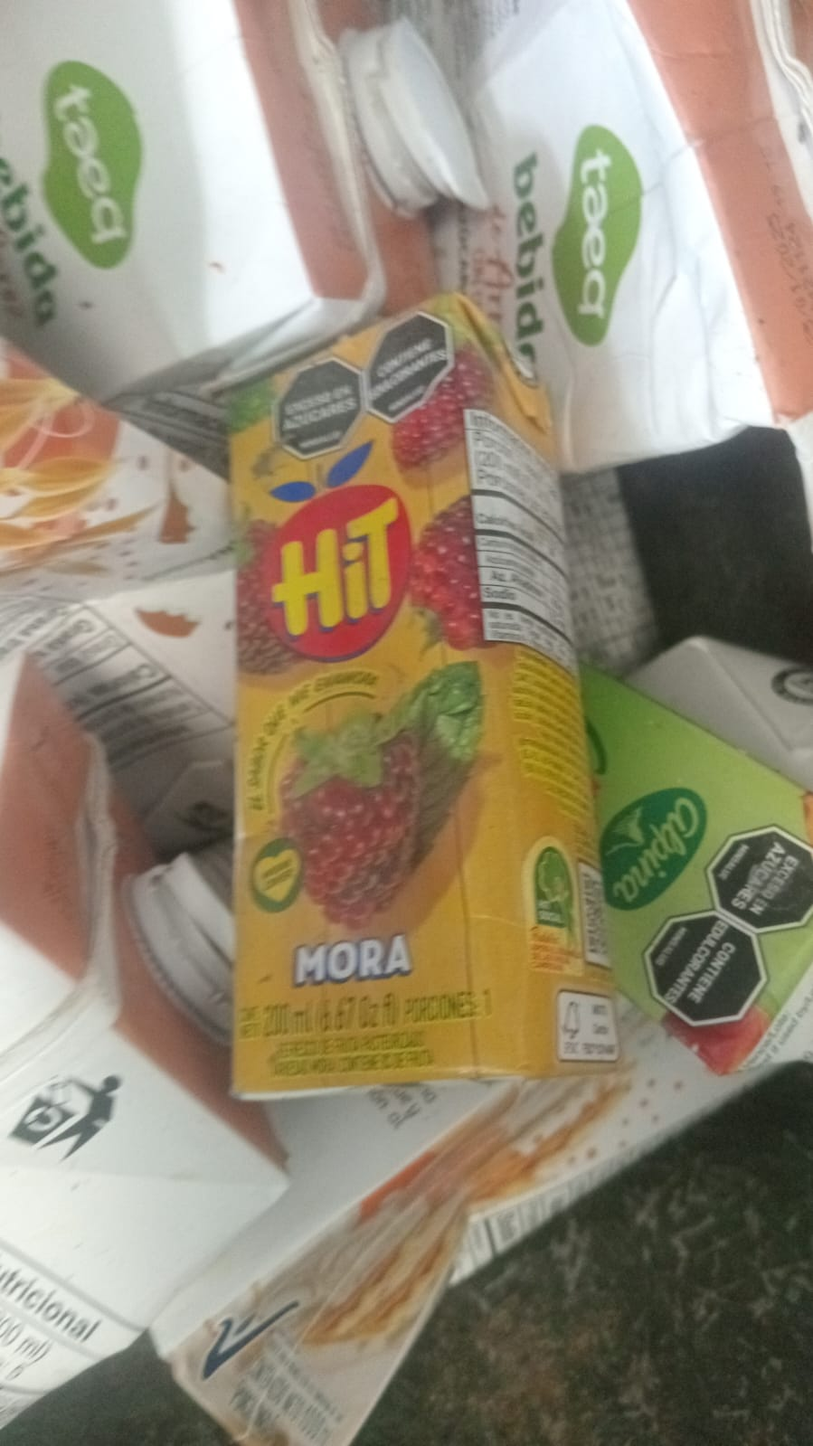Carton: (218, 290, 621, 1103), (0, 627, 284, 1438), (407, 0, 807, 454), (0, 0, 440, 405), (591, 666, 813, 1071)
